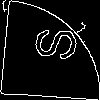S: (24, 24, 79, 62)
